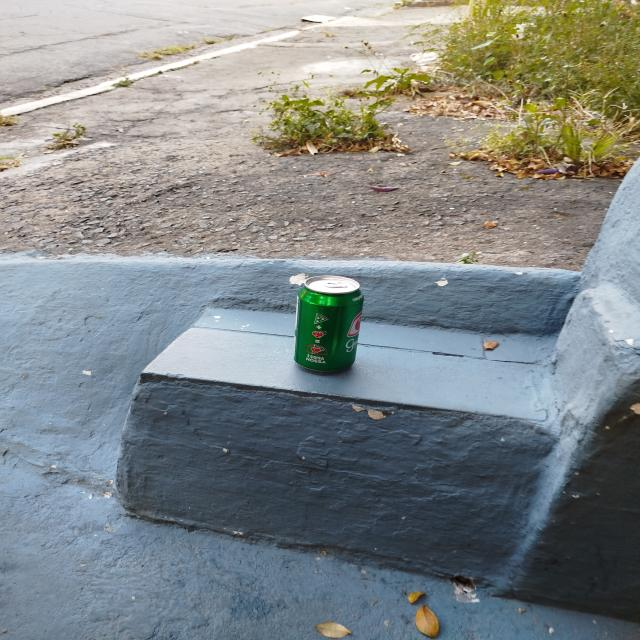Guarana: (291, 276, 363, 370)
